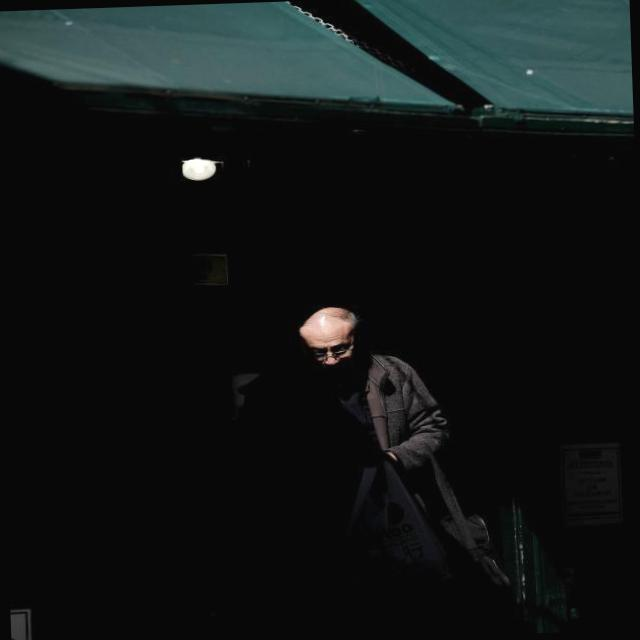person: (246, 294, 514, 616)
